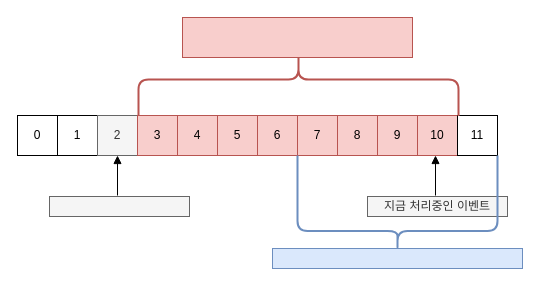
Some shapes in this 540 by 286 pixel diagram are drawn without their labels. The centre of each missing label's shape, as x and y in pixels:
리밸런싱이 발생할 경우 재처리될 메시지들 = 중복 발생: [297,37]
마지막 poll() 메서드 호출에서 리턴된 메시지들: [397,258]
마지막으로 커밋된 오프셋: [119,206]
